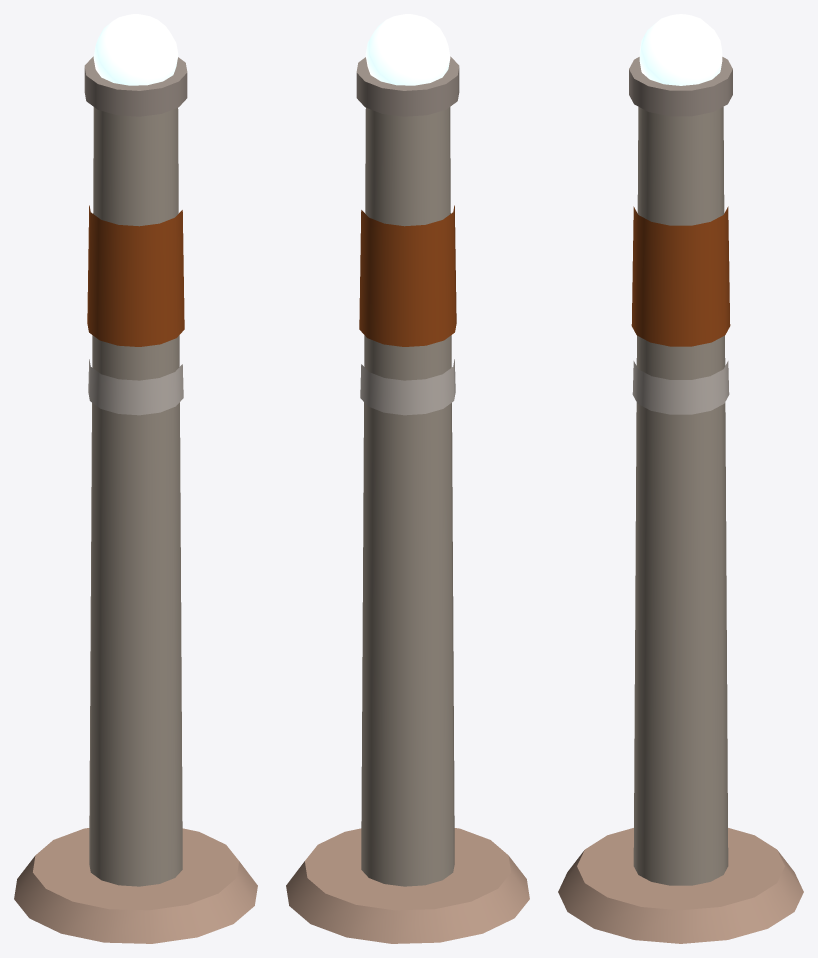
File: D08_path_marker_post.glb
3 renders of one model, left to right at view 1: azimuth 30°, elevation 25°; view 2: azimuth 150°, elevation 25°; view 3: azimuth 270°, elevation 25°, orthographic.
Visible parts, largest first — view 1: post, base_plate, marker_light, lamp_collar, reflector_ring; view 2: post, base_plate, marker_light, lamp_collar, reflector_ring; view 3: post, base_plate, marker_light, lamp_collar, reflector_ring.
Part boxes in pixels (bbox=[...]): post: bbox=[87, 107, 184, 886]; base_plate: bbox=[14, 828, 257, 943]; marker_light: bbox=[93, 14, 178, 85]; lamp_collar: bbox=[84, 56, 187, 116]; reflector_ring: bbox=[88, 359, 183, 415]; post: bbox=[359, 107, 456, 886]; base_plate: bbox=[286, 828, 529, 943]; marker_light: bbox=[365, 14, 450, 85]; lamp_collar: bbox=[356, 56, 459, 116]; reflector_ring: bbox=[360, 359, 455, 415]; post: bbox=[631, 107, 730, 885]; base_plate: bbox=[558, 828, 803, 943]; marker_light: bbox=[639, 14, 722, 85]; lamp_collar: bbox=[629, 57, 732, 116]; reflector_ring: bbox=[632, 361, 729, 414].
Bounding box in the file's own units: 0.26 × 1.02 × 0.26.
